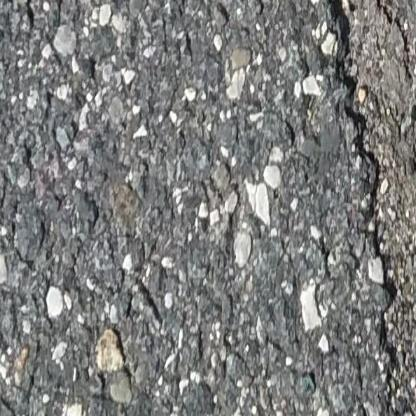Cracks: (284, 0, 416, 325), (334, 180, 416, 416)
